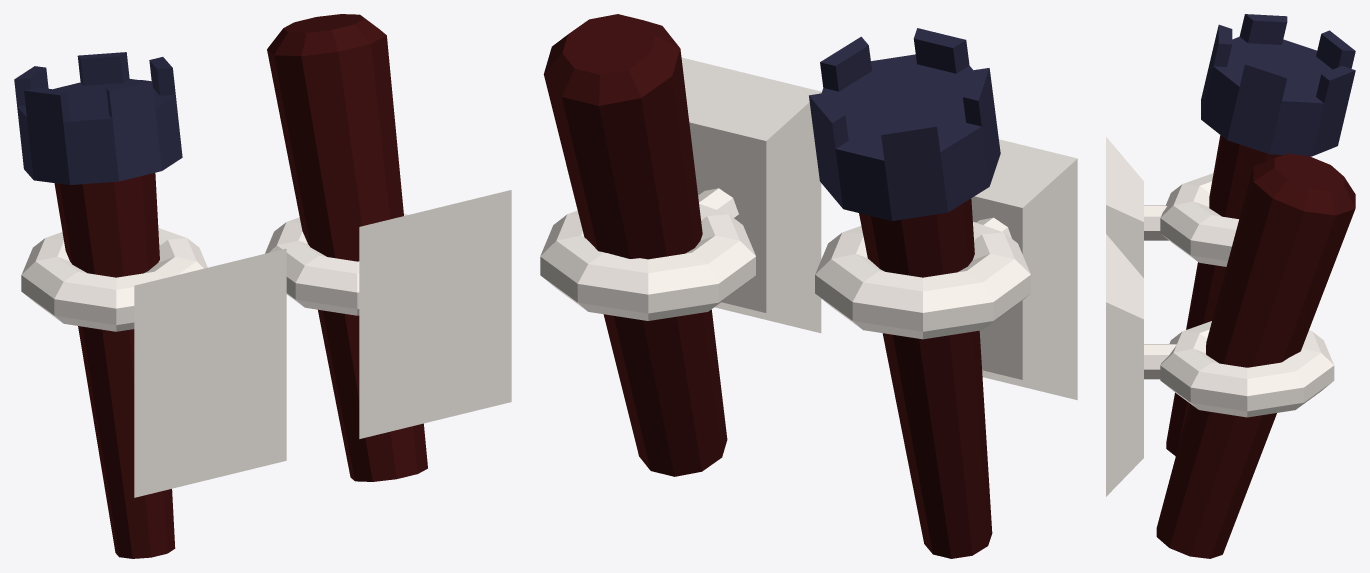
The model's file is torches_v02.fbx.
3 views of the same model, side by side, from view 1: azimuth 30°, elevation 25°; view 2: azimuth 150°, elevation 25°; view 3: azimuth 270°, elevation 25° (orthographic). The views are drawn at different scales.
Parts seen in each view (by area): view 1: troche_avec_fer_v02, troche_sans_fer_v02; view 2: troche_avec_fer_v02, troche_sans_fer_v02; view 3: troche_sans_fer_v02, troche_avec_fer_v02.
Part boxes in pixels (x1,y1,x2,y2): troche_avec_fer_v02: [14, 52, 286, 558]; troche_sans_fer_v02: [265, 14, 511, 481]; troche_avec_fer_v02: [809, 28, 1077, 558]; troche_sans_fer_v02: [540, 14, 821, 476]; troche_sans_fer_v02: [1106, 153, 1355, 558]; troche_avec_fer_v02: [1106, 14, 1355, 456].
Size of the model in its own units: 1.43 by 1.56 by 0.8373.
Materials: 2 (2 with a texture image).
